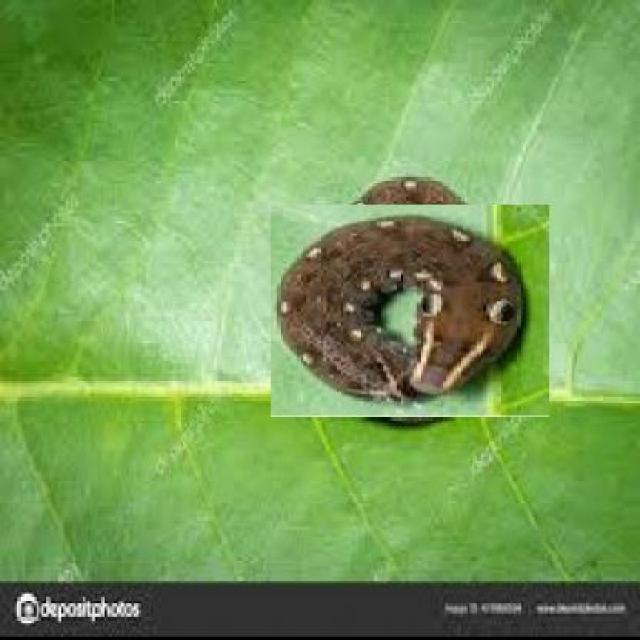Plaga: (286, 187, 533, 435)
